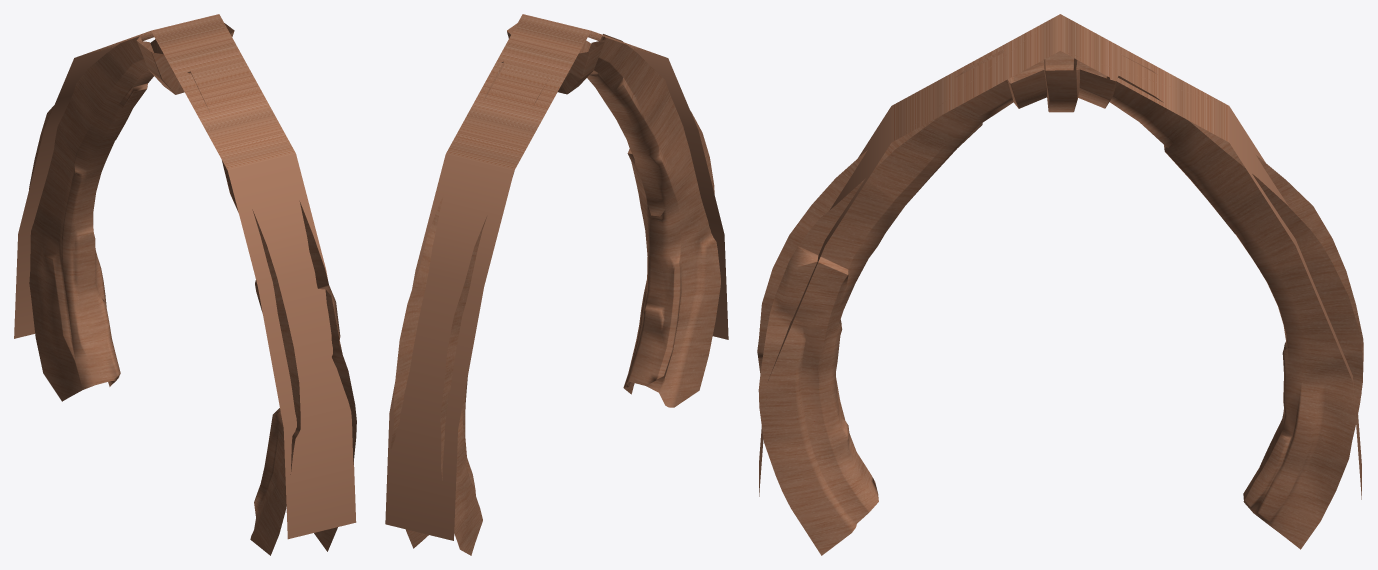
File: Geonosis_Tunnel01_Archway.fbx
3 views of the same model, side by side, from view 1: azimuth 30°, elevation 25°; view 2: azimuth 150°, elevation 25°; view 3: azimuth 270°, elevation 25° (orthographic). The views are drawn at different scales.
Parts seen in each view (by area): view 1: Geonosis_Tunnel01_Archway; view 2: Geonosis_Tunnel01_Archway; view 3: Geonosis_Tunnel01_Archway.
Boxes of the visible parts, x1,y1,x2,y2 form: Geonosis_Tunnel01_Archway: (14,14,356,555); Geonosis_Tunnel01_Archway: (385,14,728,555); Geonosis_Tunnel01_Archway: (757,14,1363,555).
Bounding box in the file's own units: 196 × 1025 × 1116.
